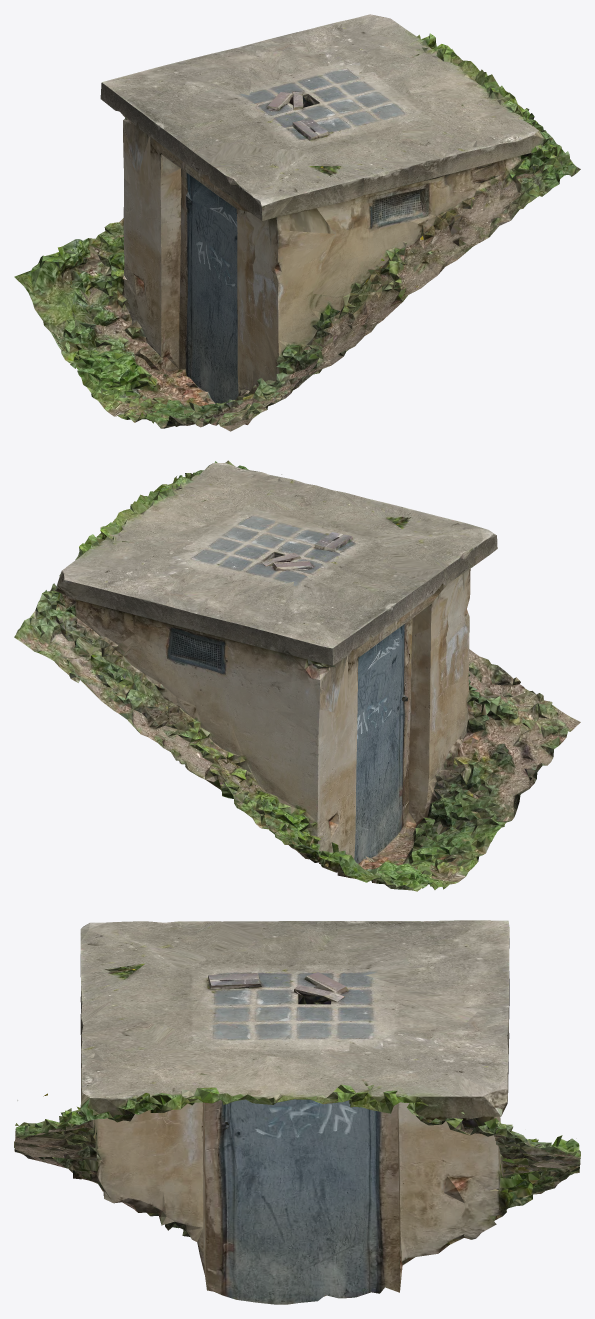
File: booth_ruin.glb
3 views of the same model, one above another, from view 1: azimuth 30°, elevation 25°; view 2: azimuth 150°, elevation 25°; view 3: azimuth 270°, elevation 25° (orthographic). The views are drawn at different scales.
Visible parts, largest first — view 1: booth_ruin; view 2: booth_ruin; view 3: booth_ruin.
Part boxes in pixels (bbox=[...]): booth_ruin: bbox=[14, 14, 580, 431]; booth_ruin: bbox=[14, 460, 580, 891]; booth_ruin: bbox=[14, 920, 580, 1304].
Bounding box in the file's own units: 2.72 × 2.12 × 2.89.
1 material, 1 textured.
